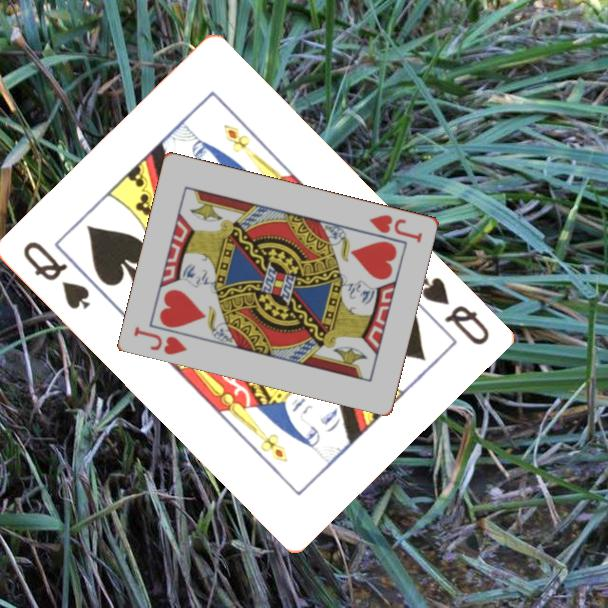h11: (366, 211, 426, 246), (130, 323, 190, 357)
s12: (416, 273, 492, 349), (19, 237, 93, 313)
